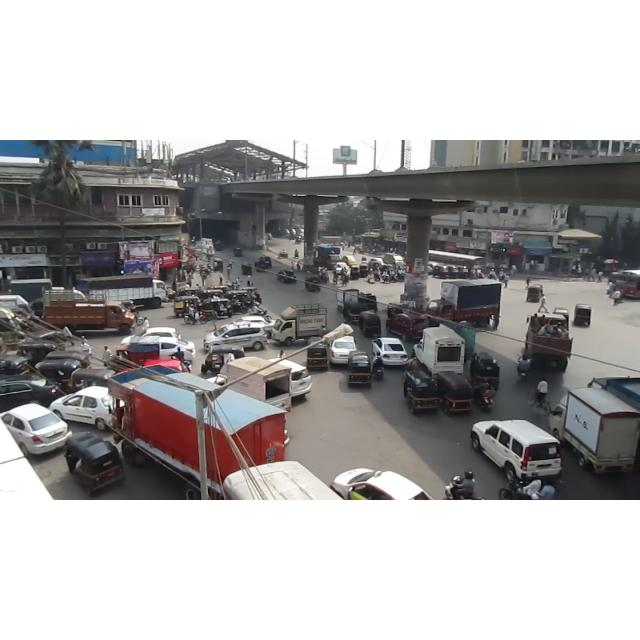auto: (59, 431, 129, 493), (436, 368, 478, 412), (397, 371, 437, 417), (348, 352, 372, 388), (307, 343, 329, 371), (572, 302, 594, 330), (527, 282, 543, 306)
car: (472, 415, 571, 491), (3, 404, 75, 459), (201, 317, 272, 355), (373, 335, 410, 368)
truck: (104, 364, 296, 488), (544, 380, 640, 486), (41, 289, 146, 339), (423, 275, 502, 333), (79, 273, 193, 310), (267, 301, 343, 347), (407, 326, 469, 382), (529, 308, 574, 376), (336, 287, 361, 311)
